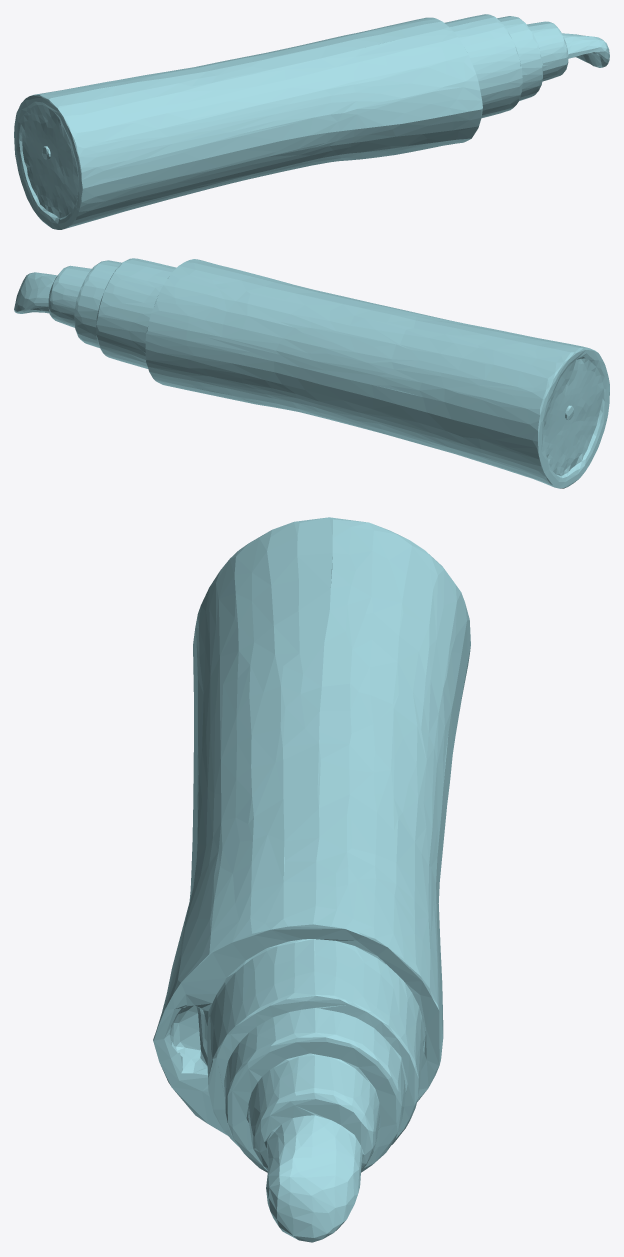
File: sharpie_open_colored.obj
3 views of the same model, one above another, from view 1: azimuth 30°, elevation 25°; view 2: azimuth 150°, elevation 25°; view 3: azimuth 270°, elevation 25° (orthographic). The views are drawn at different scales.
Parts seen in each view (by area): view 1: geometry_0; view 2: geometry_0; view 3: geometry_0.
Part boxes in pixels (x1,y1,x2,y2): geometry_0: (14, 14, 609, 229); geometry_0: (14, 258, 609, 488); geometry_0: (153, 517, 470, 1242).
Bounding box in the file's own units: 0.135 × 0.0298 × 0.0338.
